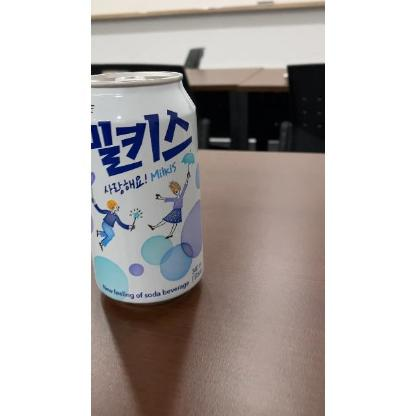Can: (92, 67, 206, 305)
